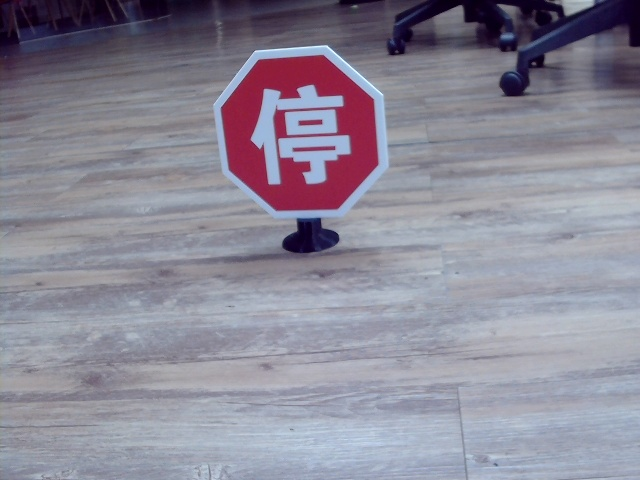stop: (248, 81, 353, 186)
